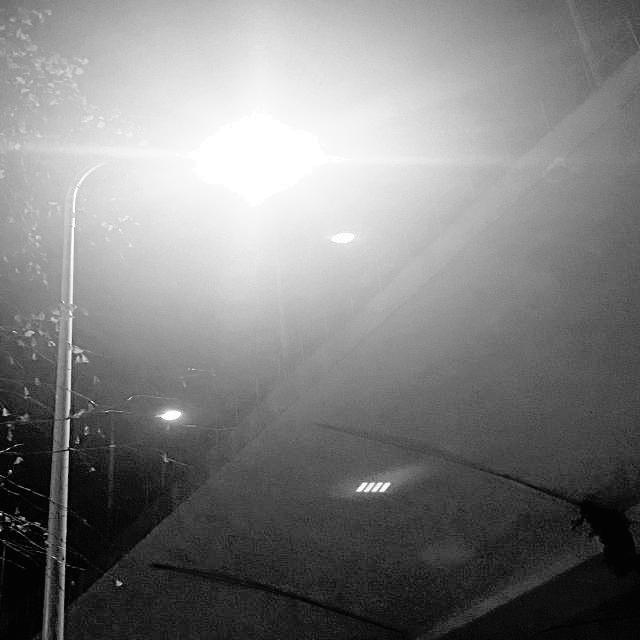Light: (206, 131, 297, 182)
